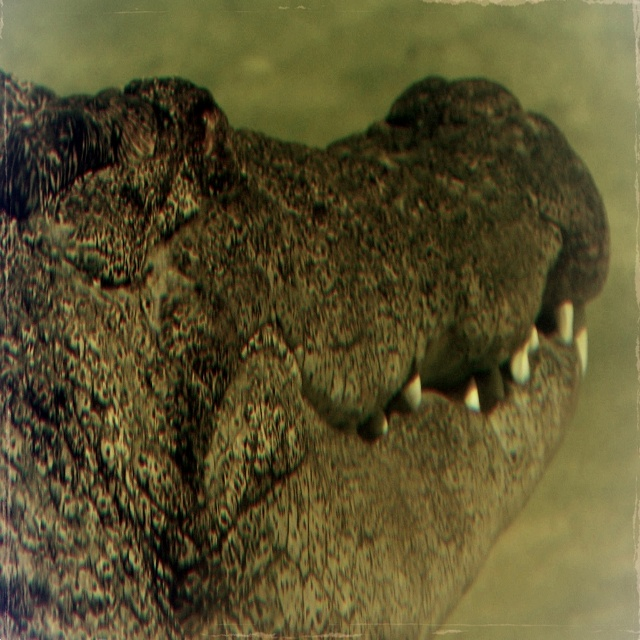Crocodile: (0, 73, 612, 639)
